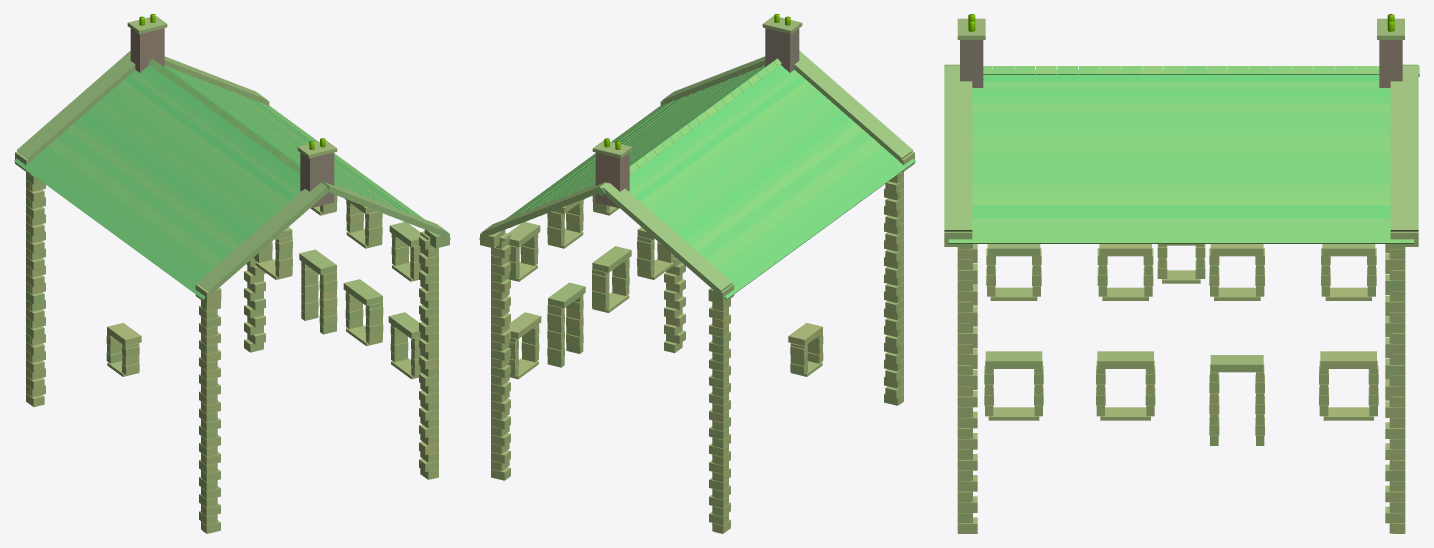
Rendered from SM_Bld_017_Stone.glb.
3 views of the same model, side by side, from view 1: azimuth 30°, elevation 25°; view 2: azimuth 150°, elevation 25°; view 3: azimuth 270°, elevation 25° (orthographic). The views are drawn at different scales.
Parts seen in each view (by area): view 1: SM_Bld_017_Stone; view 2: SM_Bld_017_Stone; view 3: SM_Bld_017_Stone.
Boxes of the visible parts, <box> form: SM_Bld_017_Stone: <box>14,14,450,533</box>; SM_Bld_017_Stone: <box>479,14,915,533</box>; SM_Bld_017_Stone: <box>944,14,1419,533</box>.
Bounding box in the file's own units: 9.11 × 12.66 × 12.25.
